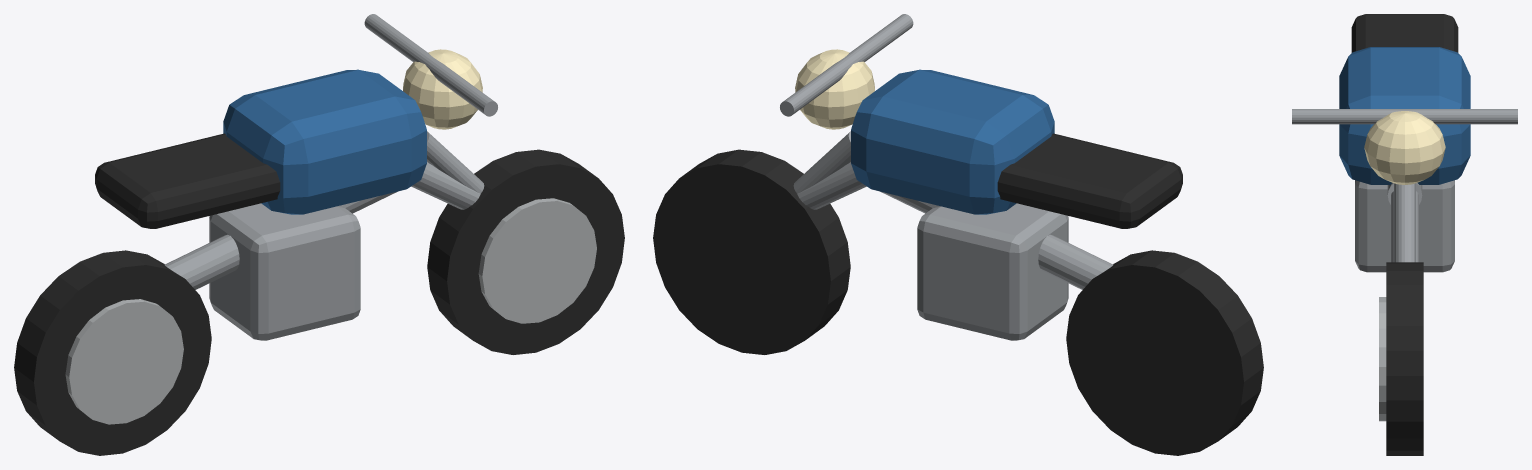
The model's file is motorcycle.glb.
The picture shows the model from 3 angles, left to right: view 1: azimuth 30°, elevation 25°; view 2: azimuth 150°, elevation 25°; view 3: azimuth 270°, elevation 25°; orthographic projection. The views are drawn at different scales.
Parts seen in each view (by area): view 1: Fuel_Tank, Motorcycle_Tyre, Motorcycle_Tyre.001, Engine, Seat, Motorcycle_Rim, Motorcycle_Rim.001, Headlamp, Frame, Handlebar, Frame.001, Front_Fork; view 2: Motorcycle_Tyre, Motorcycle_Tyre.001, Fuel_Tank, Engine, Seat, Headlamp, Frame, Handlebar, Frame.001, Front_Fork; view 3: Fuel_Tank, Motorcycle_Tyre.001, Engine, Headlamp, Seat, Handlebar, Front_Fork, Motorcycle_Rim.001, Frame.001.
Boxes of the visible parts, x1,y1,x2,y2 form: Fuel_Tank: [223, 69, 426, 214]; Motorcycle_Tyre: [14, 250, 211, 455]; Motorcycle_Tyre.001: [427, 149, 624, 354]; Engine: [209, 203, 360, 340]; Seat: [95, 133, 280, 228]; Motorcycle_Rim: [65, 299, 183, 424]; Motorcycle_Rim.001: [478, 198, 596, 323]; Headlamp: [403, 49, 482, 129]; Frame: [164, 191, 397, 289]; Handlebar: [364, 14, 497, 116]; Frame.001: [411, 162, 480, 209]; Front_Fork: [427, 131, 484, 193]; Motorcycle_Tyre: [1066, 250, 1263, 455]; Motorcycle_Tyre.001: [653, 149, 850, 354]; Fuel_Tank: [851, 69, 1054, 214]; Engine: [917, 203, 1068, 340]; Seat: [997, 133, 1182, 228]; Headlamp: [795, 49, 874, 129]; Frame: [880, 191, 1113, 289]; Handlebar: [780, 14, 913, 116]; Frame.001: [797, 162, 866, 209]; Front_Fork: [793, 131, 850, 193]; Fuel_Tank: [1339, 47, 1470, 184]; Motorcycle_Tyre.001: [1386, 262, 1423, 455]; Engine: [1355, 180, 1454, 272]; Headlamp: [1364, 111, 1445, 184]; Seat: [1351, 14, 1458, 52]; Handlebar: [1292, 109, 1517, 124]; Front_Fork: [1394, 183, 1415, 262]; Motorcycle_Rim.001: [1379, 297, 1386, 421]; Frame.001: [1391, 191, 1418, 262].
Bounding box in the file's own units: 2.06 × 1.04 × 0.72.
